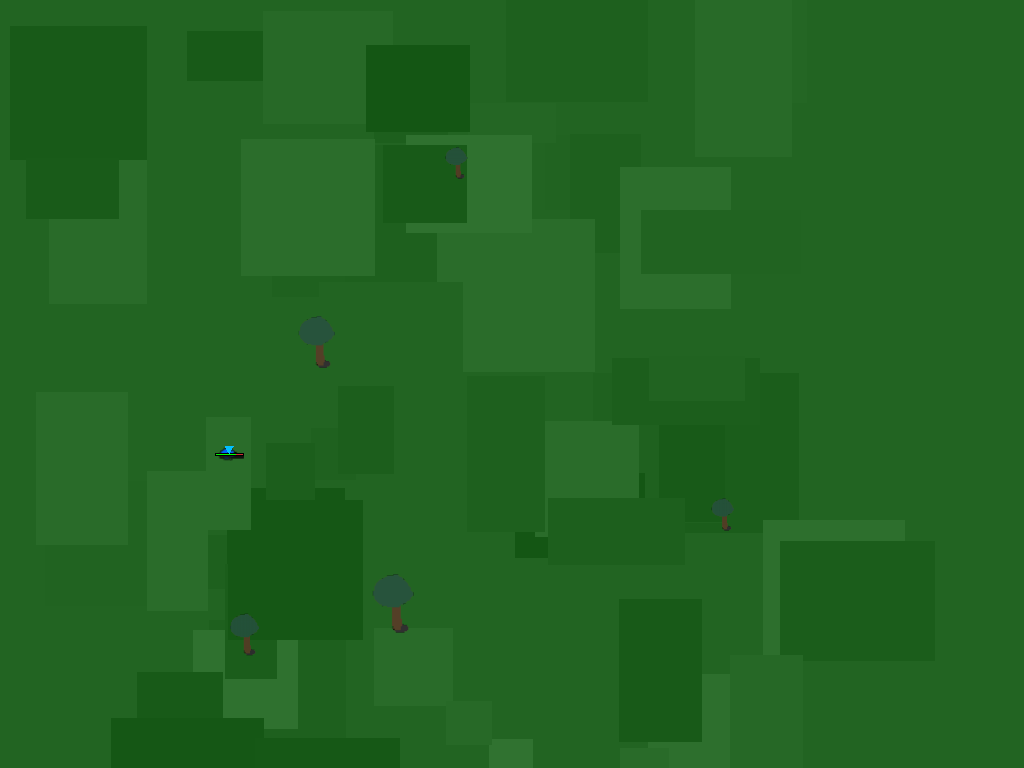Sniper: (211, 435, 246, 470)
